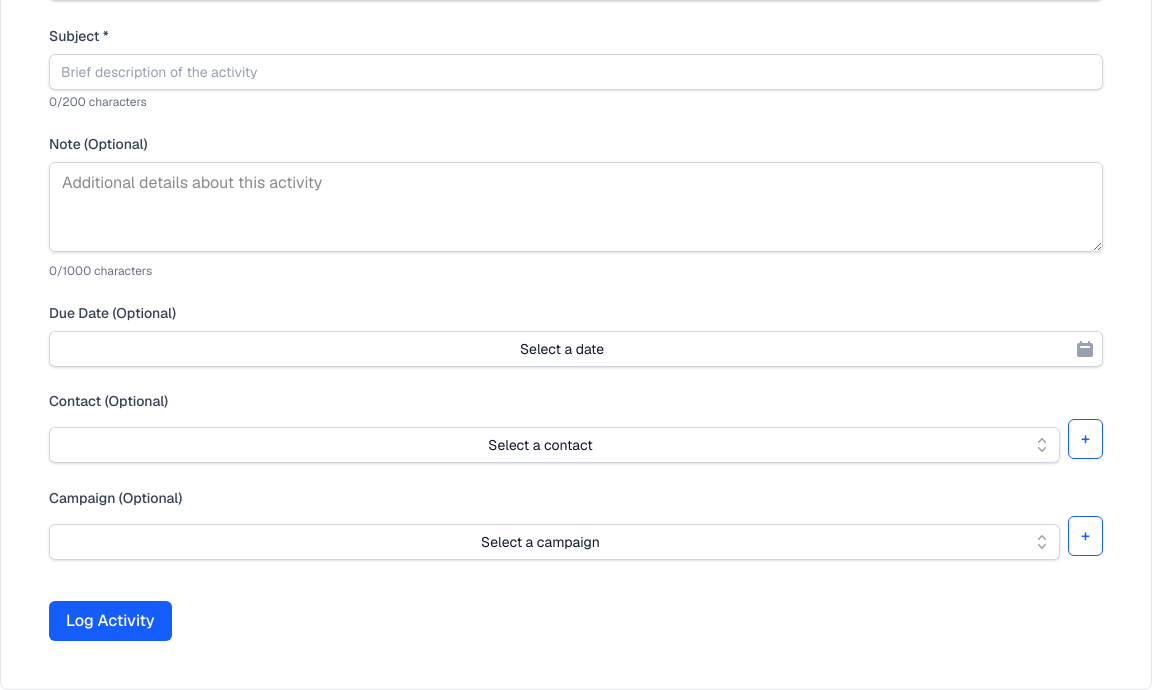
ActivityForm › should display campaign options
(page scrolled)
# Open campaign dropdown to see options
What coordinates should you click on to do the following:
click the button "Select a campaign"
I would click on:
 (554, 542)
Its box is [49,524,1060,560].
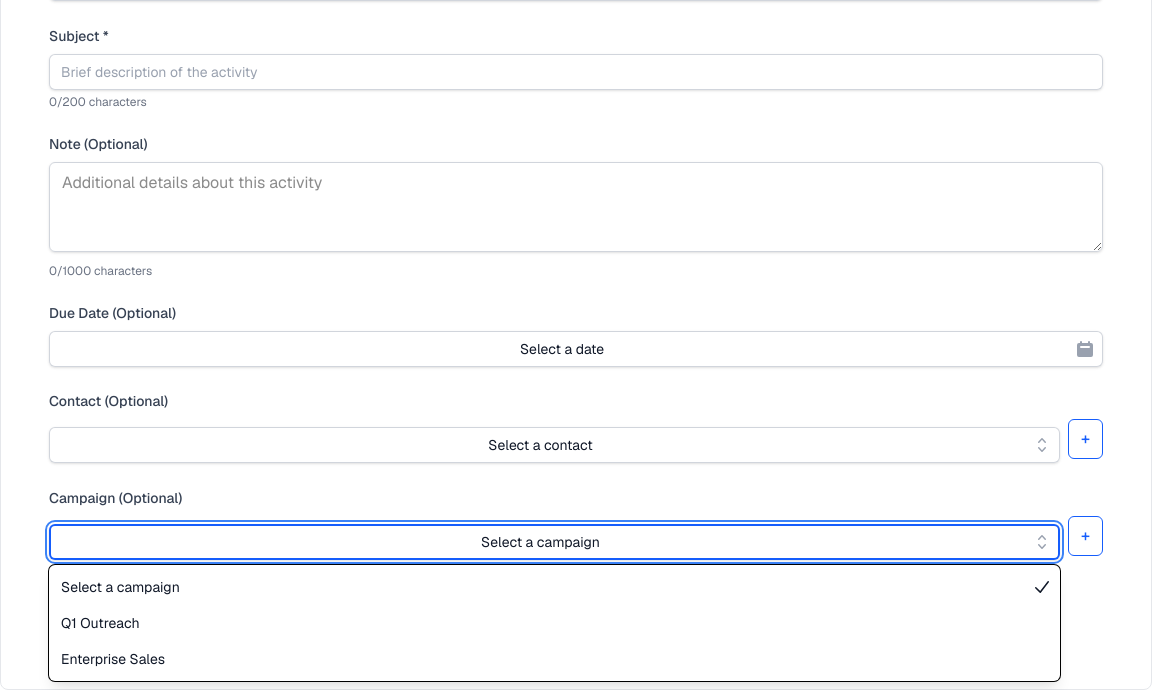
Now the list is shown, box [49,565,1060,681]
Now the option "Q1 Outreach" is shown, box [61,614,140,632]
Now the option "Enterprise Sales" is shown, box [61,650,165,668]
